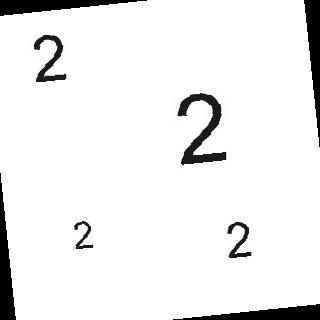two: (168, 92, 241, 165), (26, 33, 77, 83), (218, 220, 258, 260), (67, 220, 97, 250)
